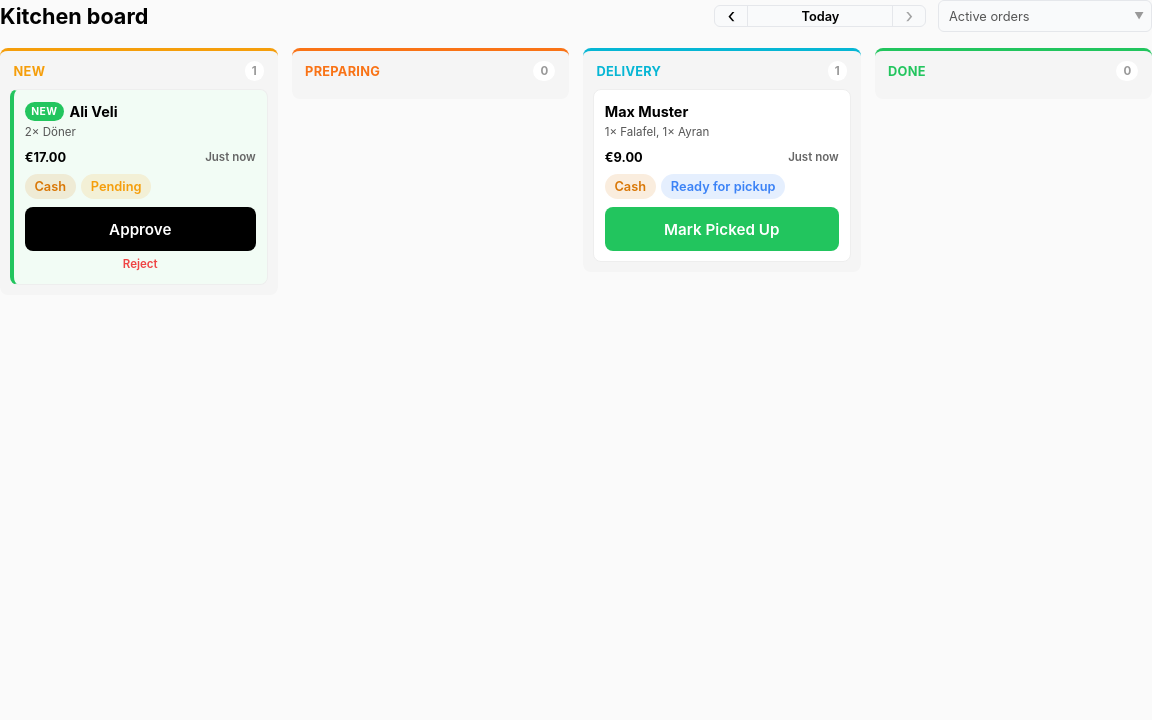
Test case: OrdersPage › does not open the order dialog when the board day changed before the print failed
Click the button "Approve" at (140, 229), box [25,208,256,251]
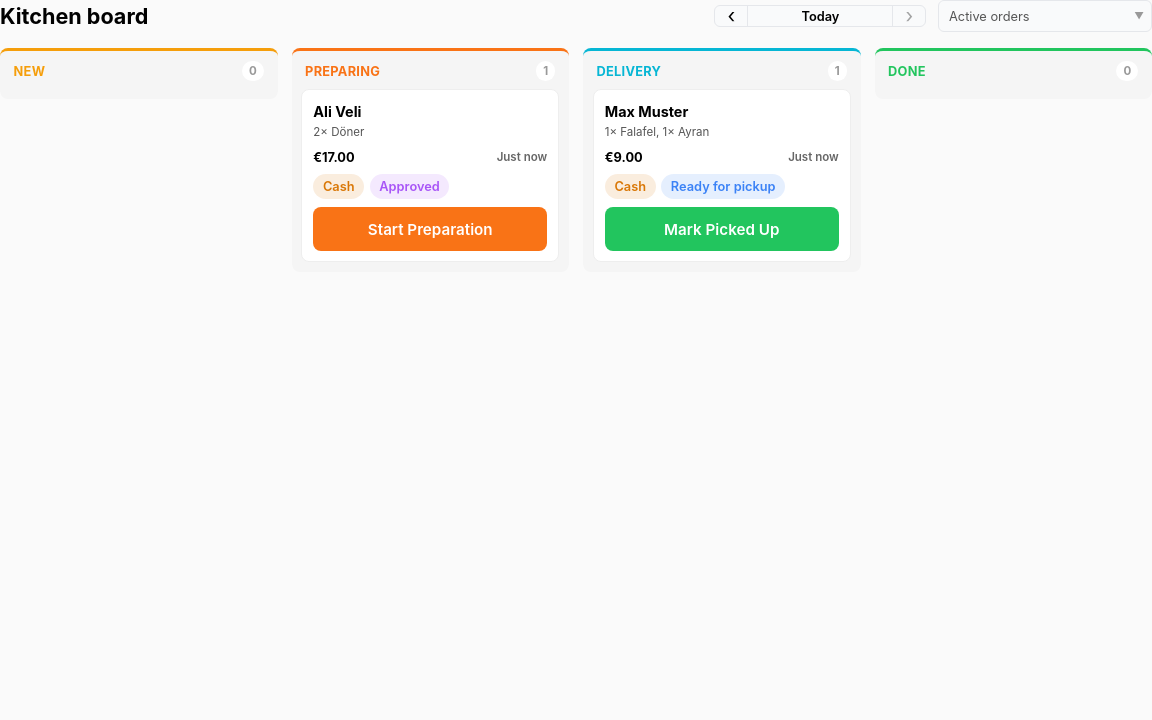
Click the button named "Previous day" at (731, 16), box [715,6,747,26]
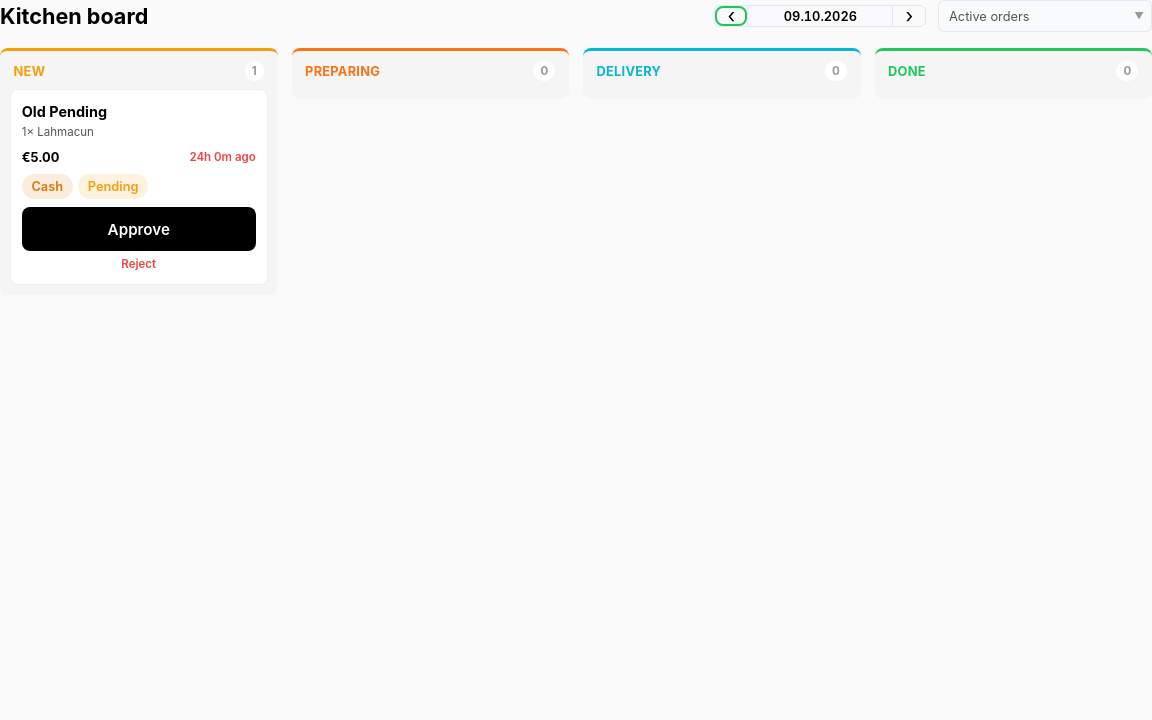
Click the button named "Next day" at (909, 16), box [893,6,925,26]
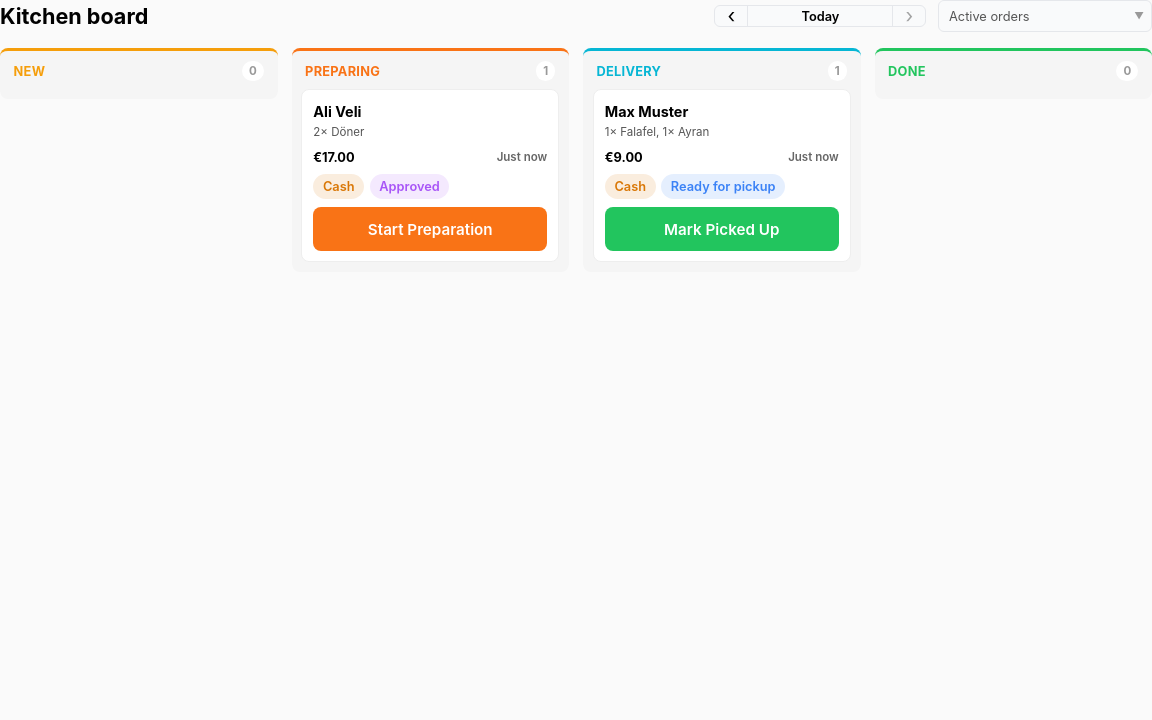
Click the text "Ali Veli" at (337, 112), box [313,101,362,122]
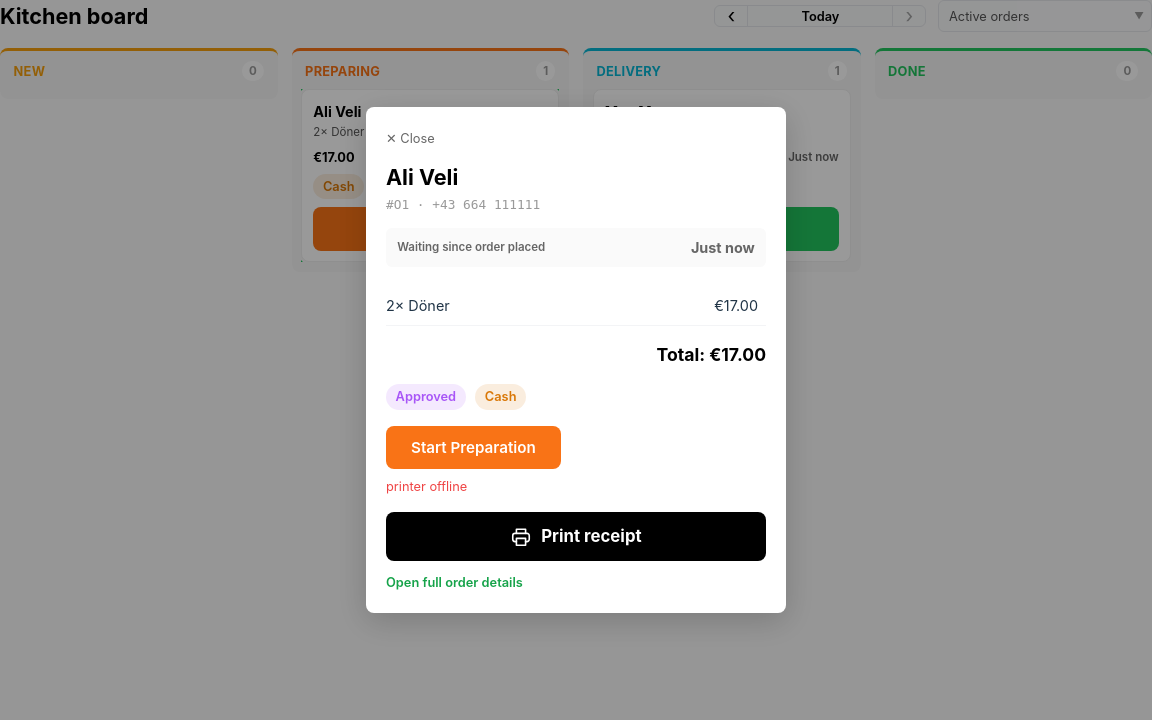
expect the text "printer offline" is shown: met, box [386,479,467,494]
